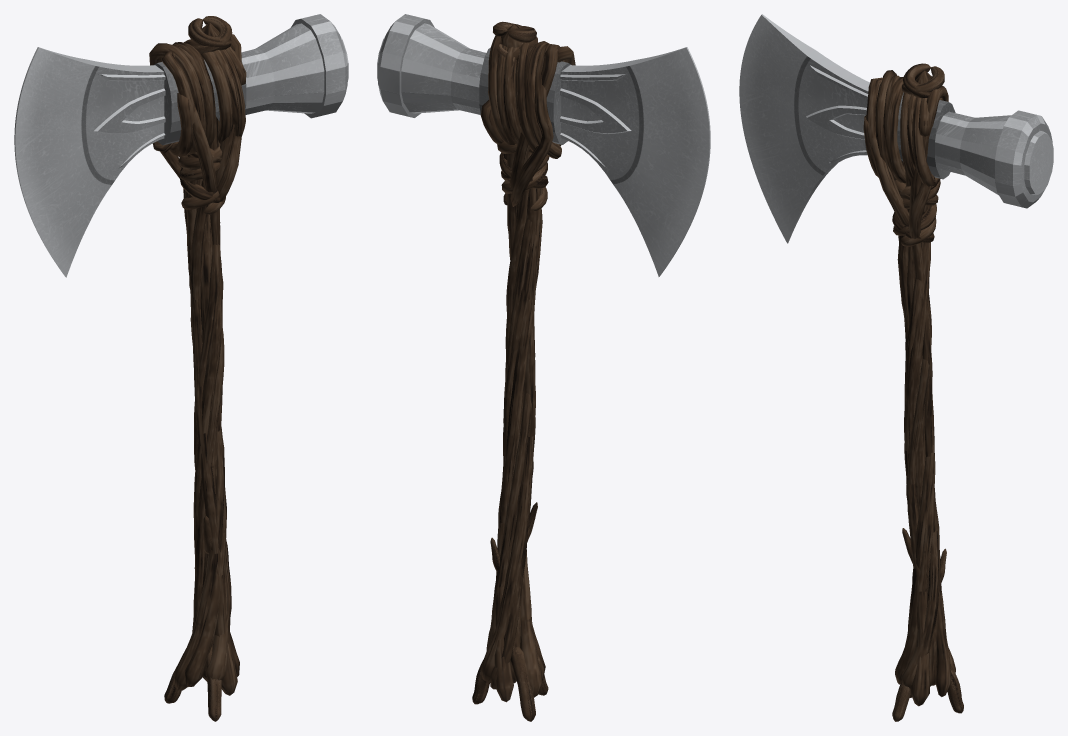
The model's file is Stormbreaker.glb.
The picture shows the model from 3 angles, left to right: view 1: azimuth 30°, elevation 25°; view 2: azimuth 150°, elevation 25°; view 3: azimuth 330°, elevation 25°; orthographic projection. The views are drawn at different scales.
Visible parts, largest first — view 1: Stormbreaker_Head, Stormbreaker_Handle; view 2: Stormbreaker_Head, Stormbreaker_Handle; view 3: Stormbreaker_Head, Stormbreaker_Handle.
Boxes of the visible parts, bbox=[...] form: Stormbreaker_Head: bbox=[14, 14, 348, 277]; Stormbreaker_Handle: bbox=[149, 16, 246, 721]; Stormbreaker_Head: bbox=[377, 14, 710, 276]; Stormbreaker_Handle: bbox=[472, 21, 575, 721]; Stormbreaker_Head: bbox=[739, 14, 1053, 243]; Stormbreaker_Handle: bbox=[863, 63, 963, 721].
Size of the model in its own units: 2.32 by 4.85 by 0.5049.
2 materials, 2 textured.
